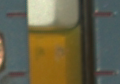border: (92, 69, 118, 78), (91, 10, 115, 19), (4, 71, 30, 78), (4, 12, 29, 19)
liquidlevel: (27, 20, 83, 42)
